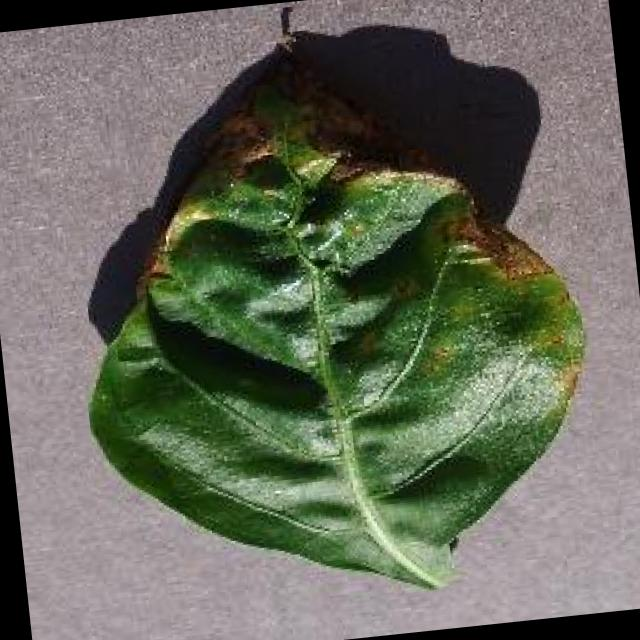Chilli_Bacterial_Spot: (52, 39, 612, 624), (416, 333, 462, 378), (286, 215, 320, 248)
